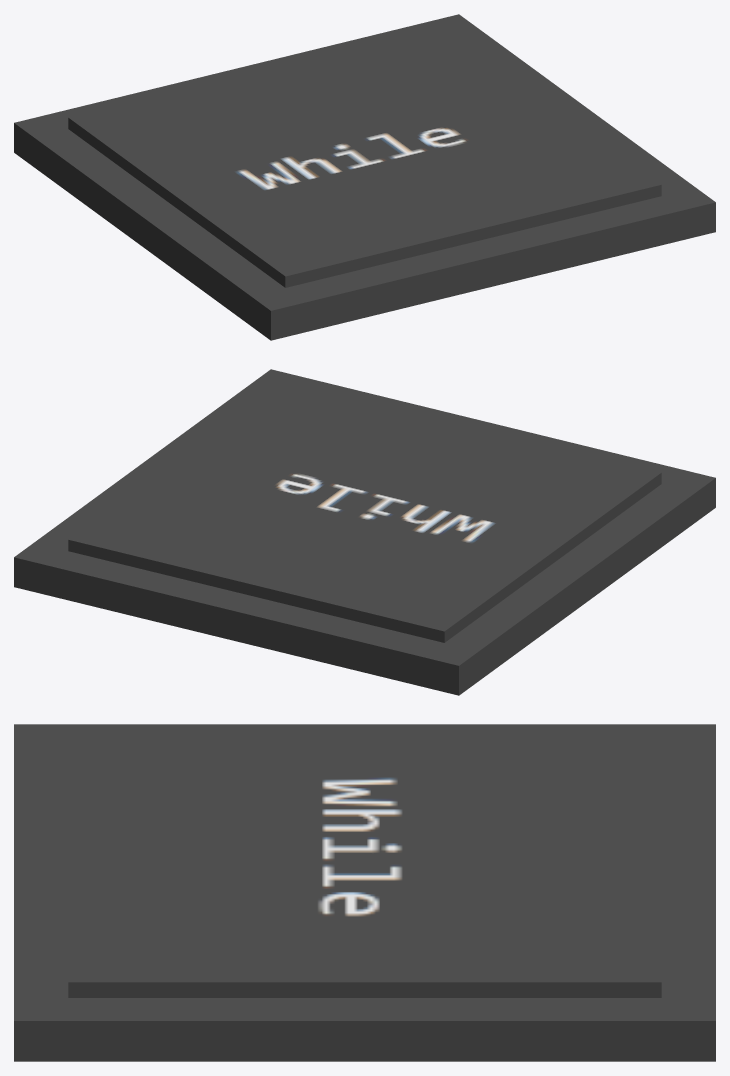
File: lvl3-tile3.fbx
The picture shows the model from 3 angles, top to bottom: view 1: azimuth 30°, elevation 25°; view 2: azimuth 150°, elevation 25°; view 3: azimuth 270°, elevation 25°; orthographic projection. The views are drawn at different scales.
Parts seen in each view (by area): view 1: Cube; view 2: Cube; view 3: Cube.
Part boxes in pixels (x1,y1,x2,y2): Cube: (14, 14, 715, 340); Cube: (14, 369, 715, 695); Cube: (14, 724, 715, 1061).
Bounding box in the file's own units: 200 × 17.74 × 200.
